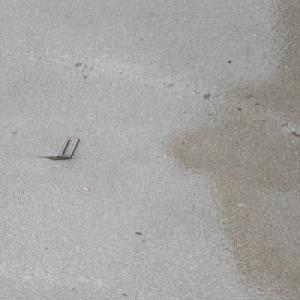MetalPart: (35, 136, 79, 161)
